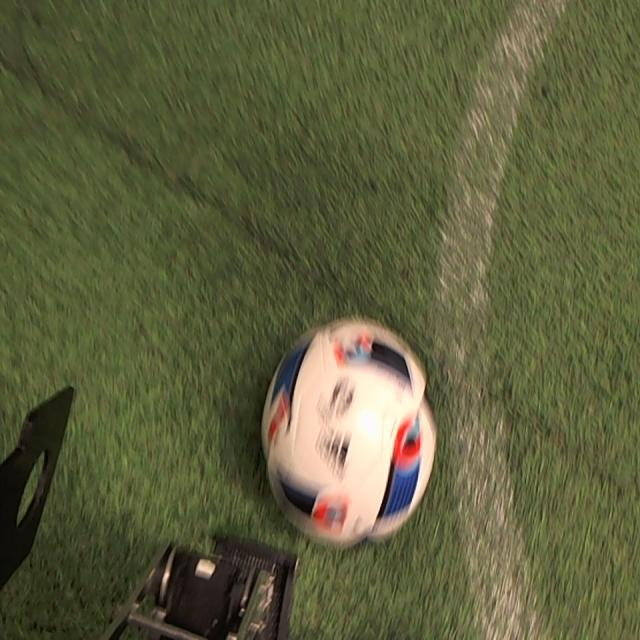ball: (263, 321, 439, 546)
